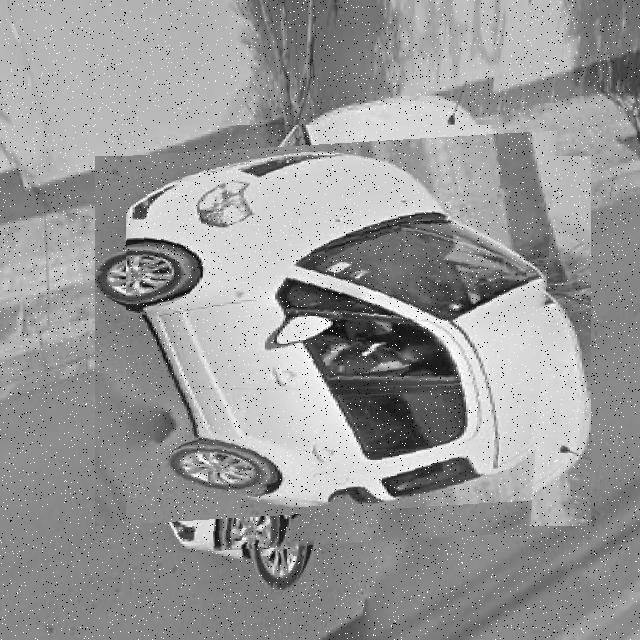car: (127, 126, 560, 559)
